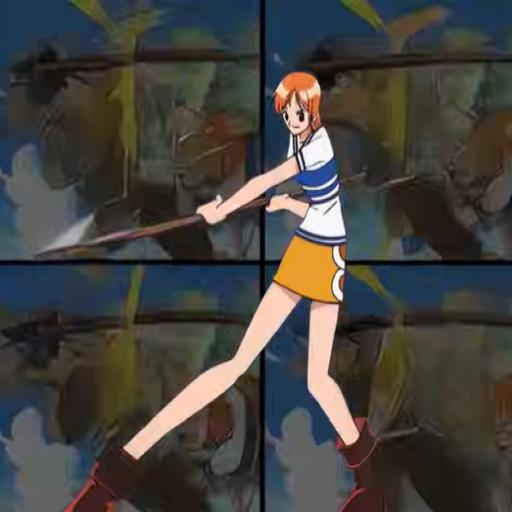Nami: (57, 68, 403, 512)
